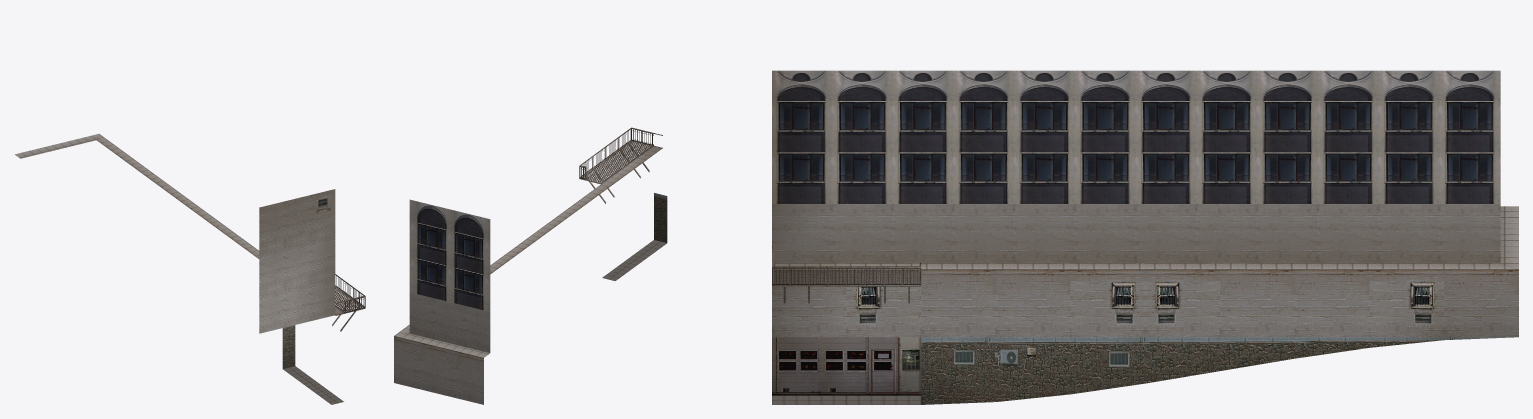
Rendered from M2Zone3_SlopeBilding2.glb.
3 views of the same model, side by side, from view 1: azimuth 30°, elevation 25°; view 2: azimuth 150°, elevation 25°; view 3: azimuth 270°, elevation 25° (orthographic). The views are drawn at different scales.
Visible parts, largest first — view 1: M2ZONE3_SLOPEBILDING2; view 2: M2ZONE3_SLOPEBILDING2; view 3: M2ZONE3_SLOPEBILDING2.
Boxes of the visible parts, box(x1,y1,x2,y2) form: M2ZONE3_SLOPEBILDING2: box(15, 134, 365, 404); M2ZONE3_SLOPEBILDING2: box(394, 127, 667, 404); M2ZONE3_SLOPEBILDING2: box(772, 70, 1518, 404).
Bounding box in the file's own units: 10 × 19.37 × 40.
Materials: 10 (10 with a texture image).
